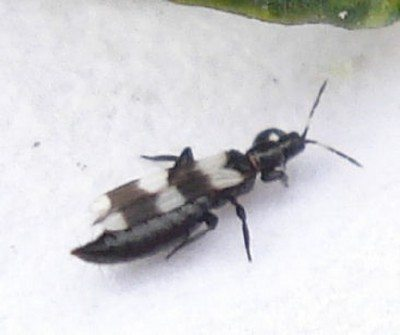Thrips: (69, 87, 343, 277)
